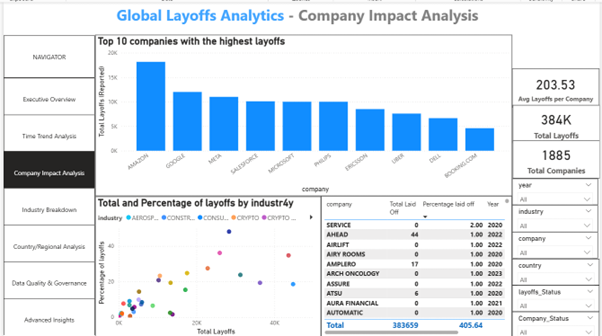

This screenshot's page, from the dashboard's own definition file:
{"tool":"powerbi","page":{"name":"Company Analysis","canvas":[1280,720],"ordinal":2},"visuals":[{"type":"shape","box":[0,0,196.6,720.2],"z":0},{"type":"card","fields":{"Values":["layoffs_cleaned_dataset.Avg Layoffs per Company"]},"box":[1092.2,142,187.5,83.7],"z":1000},{"type":"card","fields":{"Values":["Sum(layoffs_cleaned_dataset.total_laid_off)"]},"box":[1092.5,220.3,187.5,81.9],"z":3000},{"type":"card","fields":{"Values":["layoffs_cleaned_dataset.Total Companies"]},"box":[1092.5,296.7,187.5,81.9],"z":4000},{"type":"slicer","fields":{"Values":["layoffs_cleaned_dataset.year"]},"box":[1092.2,378.6,183.8,56.4],"z":5000},{"type":"slicer","fields":{"Values":["layoffs_cleaned_dataset.industry"]},"box":[1092.2,435,183.8,58.2],"z":6000},{"type":"slicer","fields":{"Values":["layoffs_cleaned_dataset.layoffs_Status"]},"box":[1092.2,608,187.5,56.4],"z":7000},{"type":"textbox","box":[448.1,0,509.8,70.5],"z":8000},{"type":"slicer","fields":{"Values":["layoffs_cleaned_dataset.company"]},"box":[1092.2,493.3,183.8,56.4],"z":9000},{"type":"textbox","box":[0,333.6,196.6,54.3],"z":11000},{"type":"textbox","box":[2.4,461.2,236.5,42.2],"z":12000},{"type":"textbox","box":[2.4,208.4,231.6,51.9],"z":13000},{"type":"textbox","box":[0,90.5,236.5,44.6],"z":14000},{"type":"textbox","box":[0,576.7,179.8,42.2],"z":15000},{"type":"slicer","fields":{"Values":["layoffs_cleaned_dataset.country"]},"box":[1092.2,551.5,187.5,56.4],"z":18000},{"type":"clusteredColumnChart","title":"Total Layoffs by Top 10 Companes","fields":{"Category":["layoffs_cleaned_dataset.company"],"Y":["layoffs_cleaned_dataset.Total Layoffs (Reported)"]},"box":[196.9,70.5,884.5,345.3],"z":19000},{"type":"tableEx","fields":{"Values":["layoffs_cleaned_dataset.company","Sum(layoffs_cleaned_dataset.total_laid_off)","Sum(layoffs_cleaned_dataset.percentage_laid_off)","layoffs_cleaned_dataset.date.Variation.Date Hierarchy.Year","layoffs_cleaned_dataset.date.Variation.Date Hierarchy.Quarter","layoffs_cleaned_dataset.date.Variation.Date Hierarchy.Month"]},"box":[681.7,415.8,409.9,304.1],"z":20000},{"type":"scatterChart","title":"Total and Percentage of layoffs by industr4y","fields":{"Y":["Sum(layoffs_cleaned_dataset.percentage_laid_off)"],"Series":["layoffs_cleaned_dataset.industry"],"X":["Sum(layoffs_cleaned_dataset.total_laid_off)"]},"box":[196.9,417.3,459.9,304.1],"z":21000},{"type":"slicer","fields":{"Values":["layoffs_cleaned_dataset.Company_Status"]},"box":[1092.2,664.4,187.5,58.2],"z":22000}]}

Visuals, with their boxes on the page's 1280x720 design canvas (x1, y1, x2, y2). These are canvas units, not pixel positions in the 602x336 screenshot, which may show the page scaled, cropped or inside an application window:
shape: bbox=[0, 0, 197, 720]
card - layoffs_cleaned_dataset.Avg Layoffs per Company: bbox=[1092, 142, 1280, 226]
card - Sum(layoffs_cleaned_dataset.total_laid_off): bbox=[1092, 220, 1280, 302]
card - layoffs_cleaned_dataset.Total Companies: bbox=[1092, 297, 1280, 379]
slicer - layoffs_cleaned_dataset.year: bbox=[1092, 379, 1276, 435]
slicer - layoffs_cleaned_dataset.industry: bbox=[1092, 435, 1276, 493]
slicer - layoffs_cleaned_dataset.layoffs_Status: bbox=[1092, 608, 1280, 664]
textbox: bbox=[448, 0, 958, 70]
slicer - layoffs_cleaned_dataset.company: bbox=[1092, 493, 1276, 550]
textbox: bbox=[0, 334, 197, 388]
textbox: bbox=[2, 461, 239, 503]
textbox: bbox=[2, 208, 234, 260]
textbox: bbox=[0, 90, 236, 135]
textbox: bbox=[0, 577, 180, 619]
slicer - layoffs_cleaned_dataset.country: bbox=[1092, 552, 1280, 608]
"Total Layoffs by Top 10 Companes" clusteredColumnChart: bbox=[197, 70, 1081, 416]
tableEx - layoffs_cleaned_dataset.company x Sum(layoffs_cleaned_dataset.total_laid_off): bbox=[682, 416, 1092, 720]
"Total and Percentage of layoffs by industr4y" scatterChart: bbox=[197, 417, 657, 721]
slicer - layoffs_cleaned_dataset.Company_Status: bbox=[1092, 664, 1280, 723]
